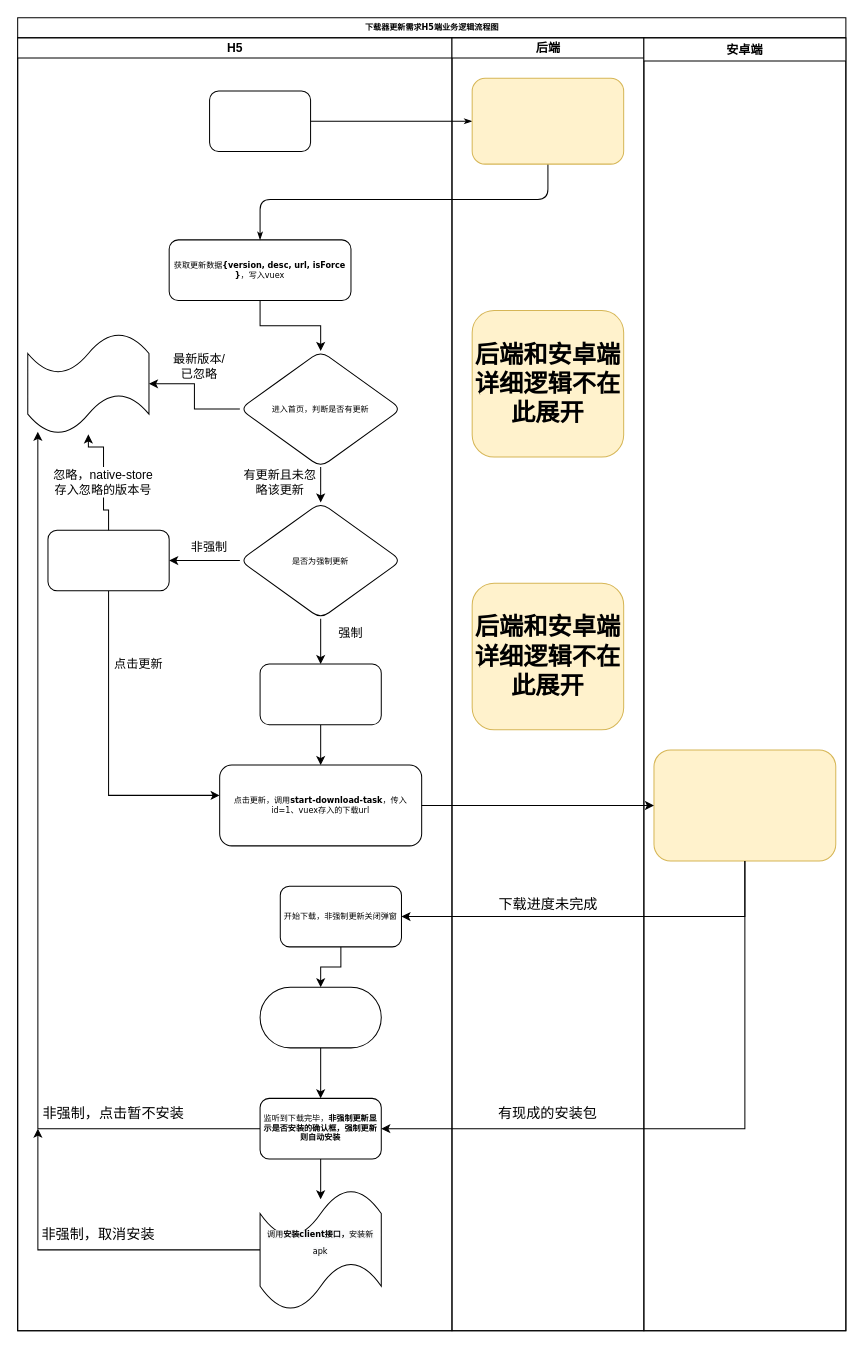
Some shapes in this 864 by 1348 pixel diagram are drawn without their labels. Here are the shapes that lost their labels. From the top down, the centre of each, then its label:
At pixel 260 121: "登录（静默/手动）".
At pixel 547 120: "登录接口增加返回更新信息{..., latest: {version, desc, url, isForce }}".
At pixel 88 383: "不弹出提示".
At pixel 108 560: "弹出更新提示框（非强制版本）".
At pixel 320 694: "弹出更新提示（强制版本）".
At pixel 744 805: "弹出授权/开始下载任务 返回调用结果， 之后H5监听download-progress事件".
At pixel 320 1017: "强制更新不关弹窗， 在弹窗内显示下载进度".
